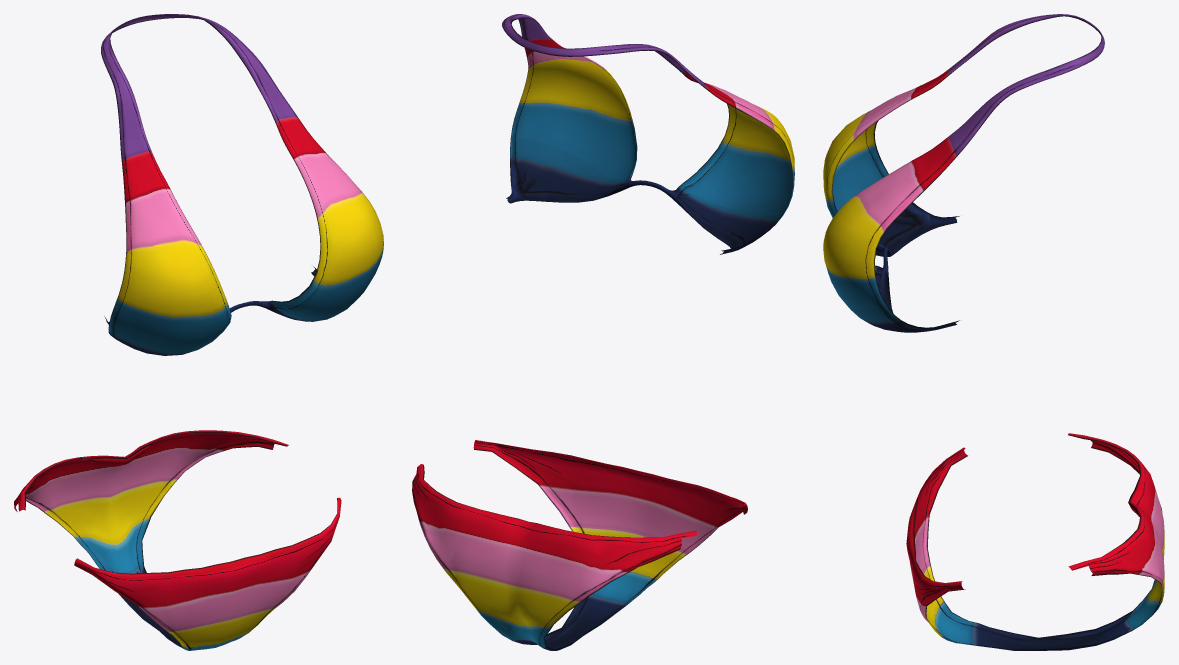
Rendered from bikini4.gltf.
The picture shows the model from 3 angles, left to right: view 1: azimuth 30°, elevation 25°; view 2: azimuth 150°, elevation 25°; view 3: azimuth 270°, elevation 25°; orthographic projection. The views are drawn at different scales.
Parts seen in each view (by area): view 1: Swimsuit_BB_Bra, Swimsuit_BB_Panties; view 2: Swimsuit_BB_Panties, Swimsuit_BB_Bra; view 3: Swimsuit_BB_Bra, Swimsuit_BB_Panties.
Boxes of the visible parts, box(x1,y1,x2,y2) form: Swimsuit_BB_Bra: box(101, 14, 383, 355); Swimsuit_BB_Panties: box(14, 430, 341, 650); Swimsuit_BB_Panties: box(412, 440, 747, 650); Swimsuit_BB_Bra: box(502, 14, 794, 254); Swimsuit_BB_Bra: box(823, 14, 1104, 332); Swimsuit_BB_Panties: box(906, 433, 1164, 650).
Size of the model in its own units: 0.2454 by 0.514 by 0.2604.
Materials: 1 (1 with a texture image).
